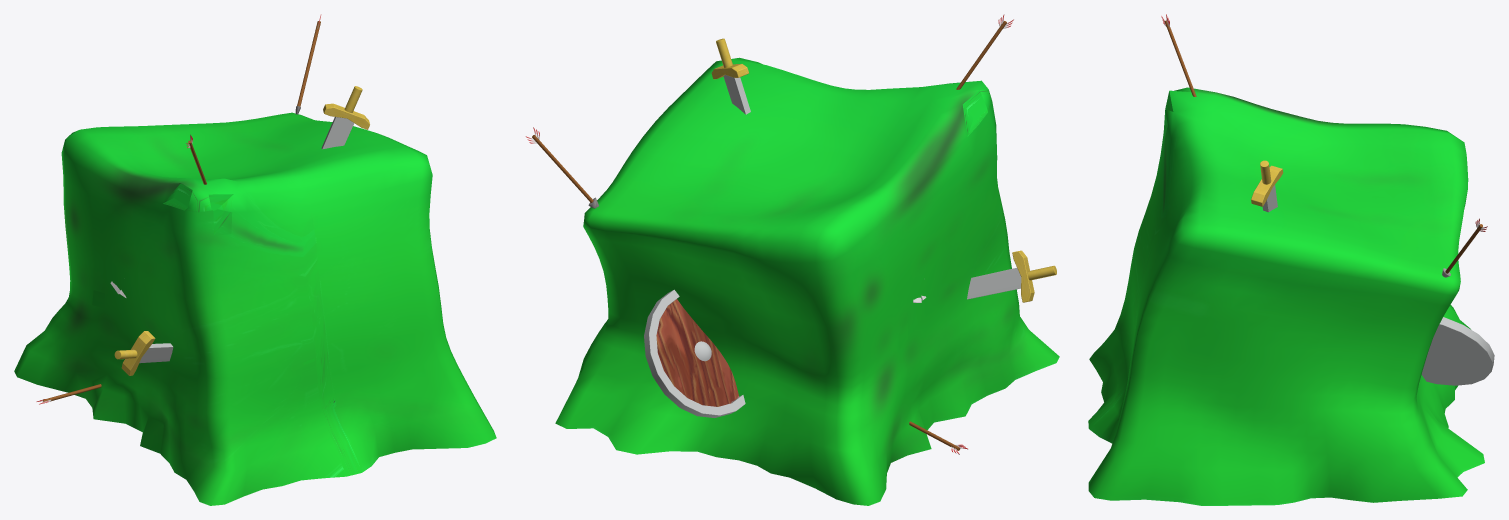
The model's file is slime.fbx.
3 views of the same model, side by side, from view 1: azimuth 30°, elevation 25°; view 2: azimuth 150°, elevation 25°; view 3: azimuth 270°, elevation 25° (orthographic). The views are drawn at different scales.
Parts seen in each view (by area): view 1: pCube1, pCube12, pCube13; view 2: pCube1, polySurface8, pCube13, pCube12; view 3: pCube1, polySurface8, pCube12.
Boxes of the visible parts, x1,y1,x2,y2 form: pCube1: [14, 112, 496, 505]; pCube12: [321, 86, 369, 149]; pCube13: [114, 331, 173, 375]; pCube1: [555, 57, 1059, 505]; polySurface8: [644, 289, 745, 417]; pCube13: [967, 250, 1056, 302]; pCube12: [711, 38, 750, 114]; pCube1: [1088, 87, 1484, 505]; polySurface8: [1421, 317, 1494, 385]; pCube12: [1251, 160, 1283, 212].
Bounding box in the file's own units: 6.49 × 6.11 × 6.41.
Materials: 3 (2 with a texture image).
